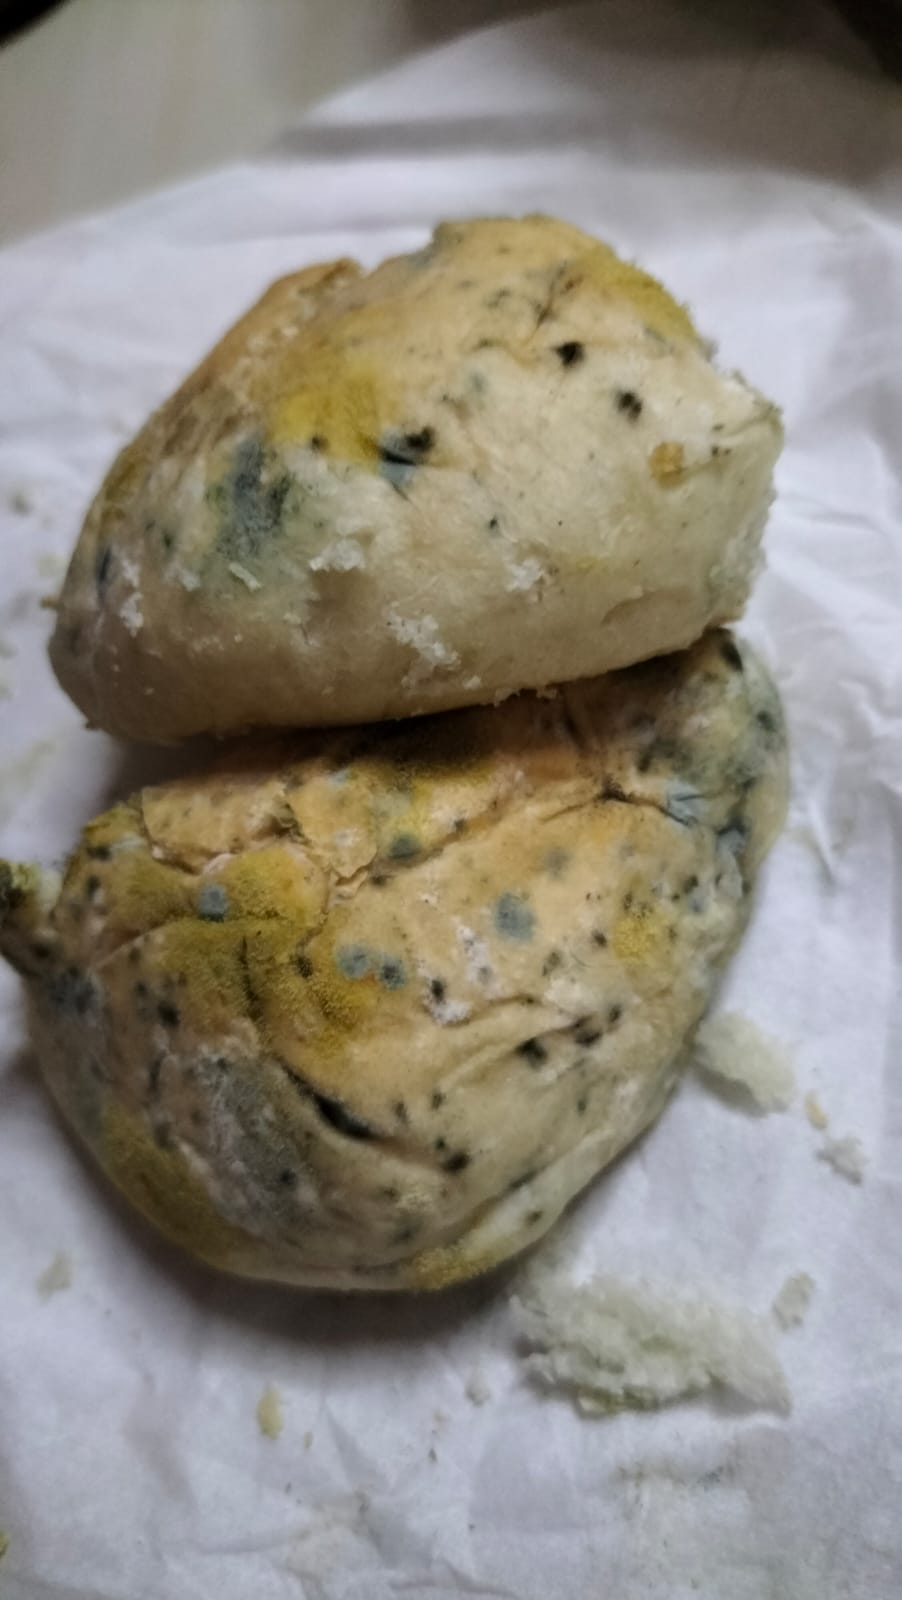mold_bread: (633, 659, 786, 805), (197, 427, 300, 585), (369, 423, 448, 502), (361, 784, 428, 868), (335, 936, 409, 1003), (129, 982, 194, 1038), (489, 882, 536, 955), (181, 870, 242, 924), (572, 995, 630, 1046), (140, 512, 186, 565), (667, 866, 712, 920), (549, 327, 593, 380), (425, 1138, 485, 1177), (614, 380, 654, 429), (517, 1031, 550, 1074), (94, 540, 122, 590), (389, 1096, 417, 1129), (426, 973, 449, 1013), (305, 427, 330, 462), (587, 922, 612, 954), (428, 1087, 452, 1112), (483, 508, 503, 533), (122, 942, 142, 964)
